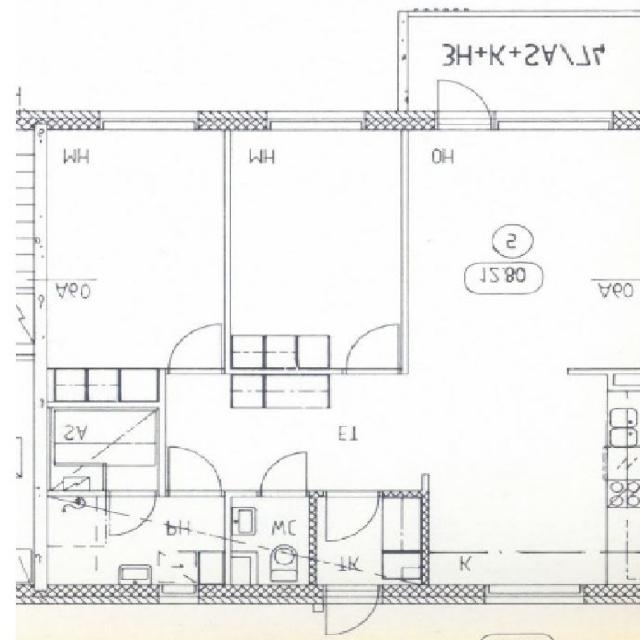door: (438, 66, 491, 130), (327, 583, 379, 640), (170, 445, 222, 496), (169, 324, 222, 374), (346, 324, 399, 374), (326, 490, 378, 540), (110, 490, 156, 535), (262, 452, 308, 496)
